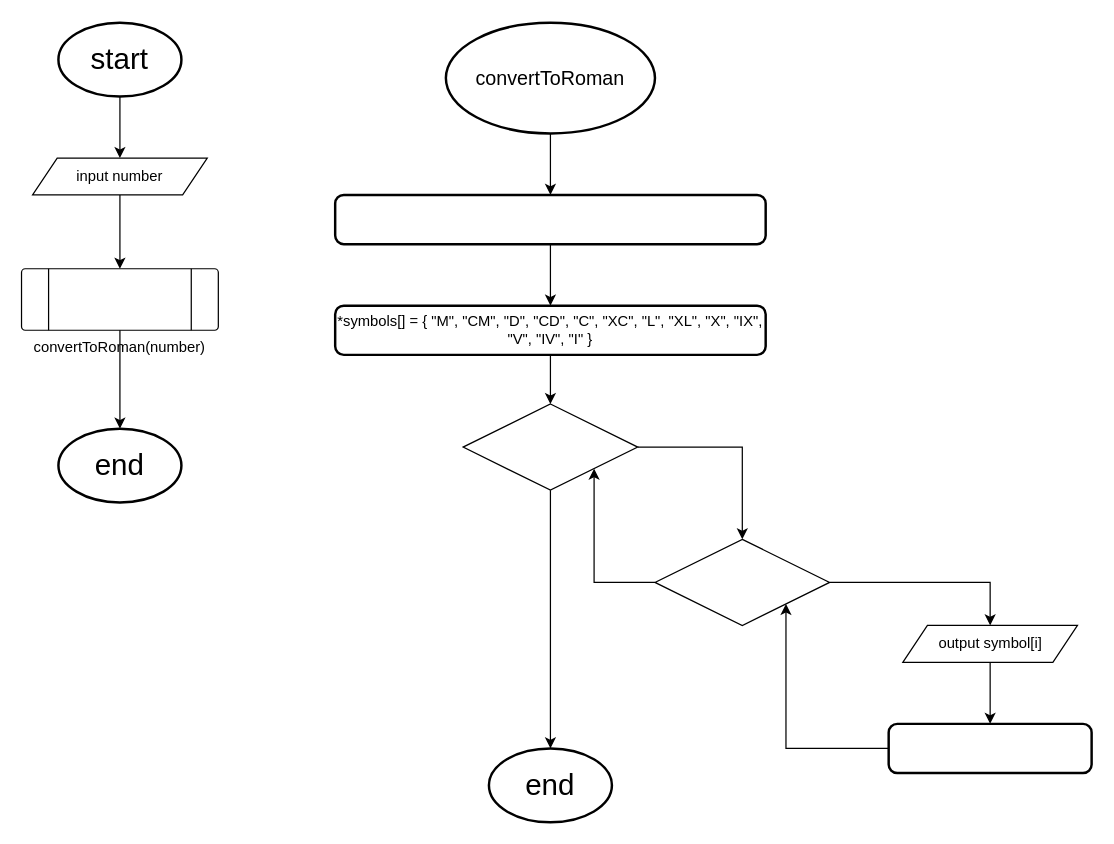
Some shapes in this 1114 by 844 pixel diagram are drawn without their labels. The centre of each missing label's shape, as x and y in pixels:
for i < 13, i++: point (550, 446)
num -+ values[i]: point (989, 748)
num => values[i]: point (742, 581)
values[] = { 1000, 900, 500, 400, 100, 90, 50, 40, 10, 9, 5, 4, 1 }: point (549, 219)
